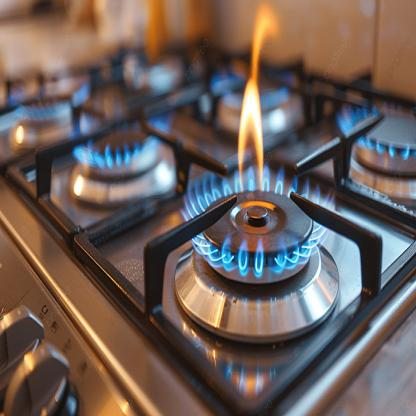fire: (176, 2, 337, 290), (66, 95, 180, 194), (0, 70, 105, 135), (336, 98, 416, 175)
